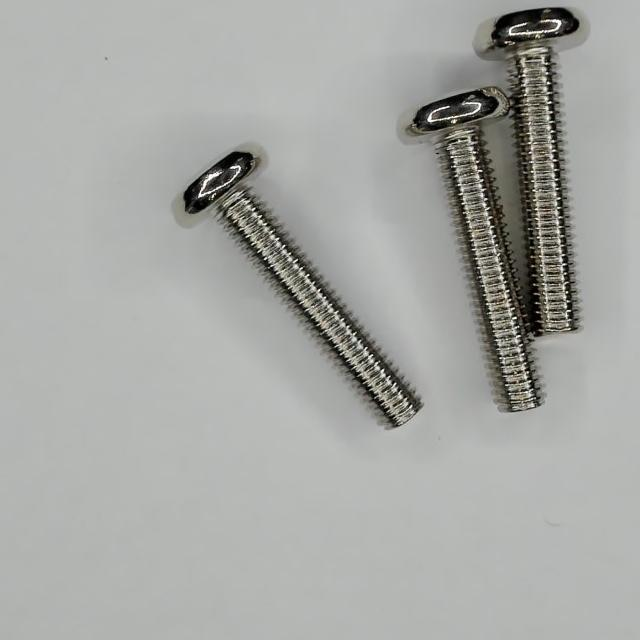Screw: (184, 151, 423, 428), (409, 86, 543, 412), (411, 87, 543, 412), (477, 7, 589, 335)
